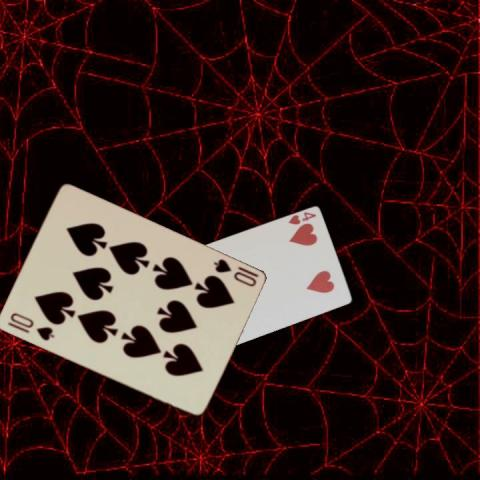10s: (6, 310, 54, 343), (210, 256, 257, 289)
4h: (286, 209, 318, 226)
